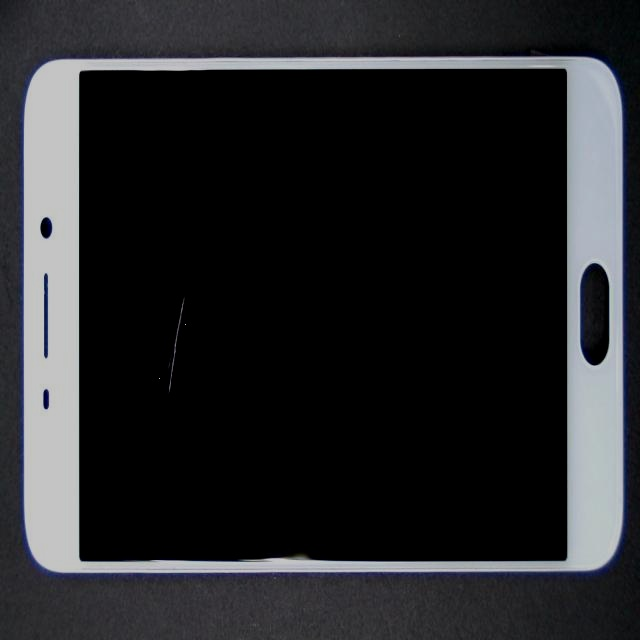scratch: (72, 180, 239, 590)
